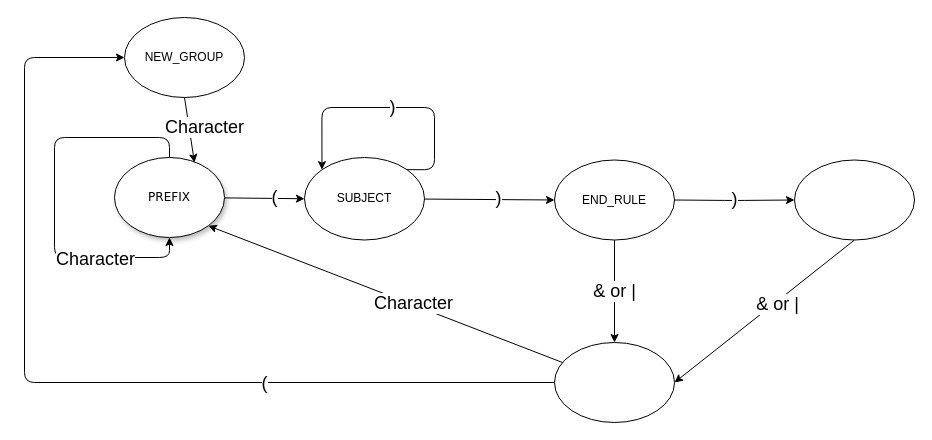
The diagram is 932 pixels wide and 440 high, and some of its shapes have lost their labels. The shapes that lost their labels are listed below. From the top down, each one's centre as x and y in pixels, then its label:
At [854,199]: "END_GROUP".
At [614,382]: "OPERATOR".
